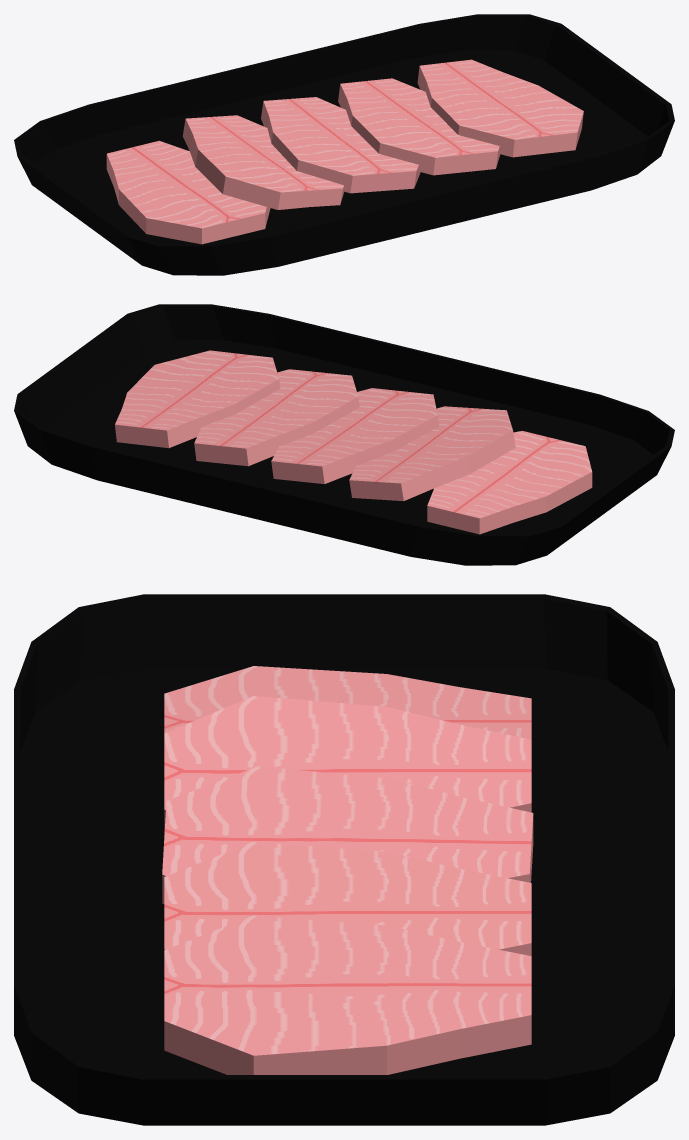
Rendered from Collectible Item.fbx_Fish_Fillet.fbx.
3 renders of one model, top to bottom at view 1: azimuth 30°, elevation 25°; view 2: azimuth 150°, elevation 25°; view 3: azimuth 270°, elevation 25°, orthographic. The views are drawn at different scales.
Parts seen in each view (by area): view 1: Fish Fillet Tray; view 2: Fish Fillet Tray; view 3: Fish Fillet Tray.
Part boxes in pixels (x1=…): Fish Fillet Tray: x1=14, y1=14, x2=674, y2=275; Fish Fillet Tray: x1=14, y1=304, x2=674, y2=565; Fish Fillet Tray: x1=14, y1=594, x2=674, y2=1125.
Size of the model in its own units: 3.47 by 0.2393 by 2.
Materials: 2 (2 with a texture image).
